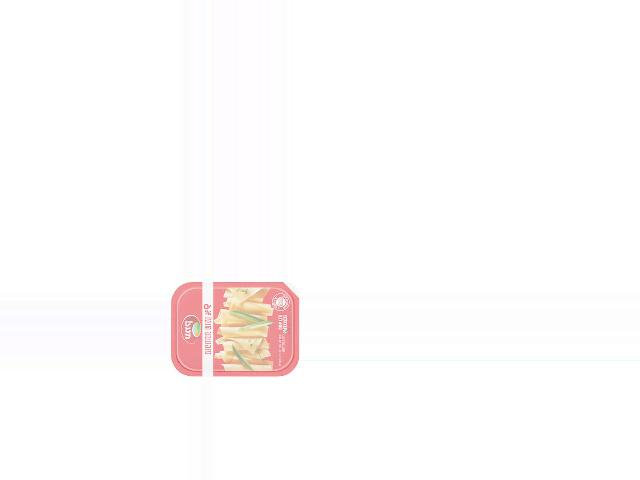cheese: (170, 282, 299, 377)
